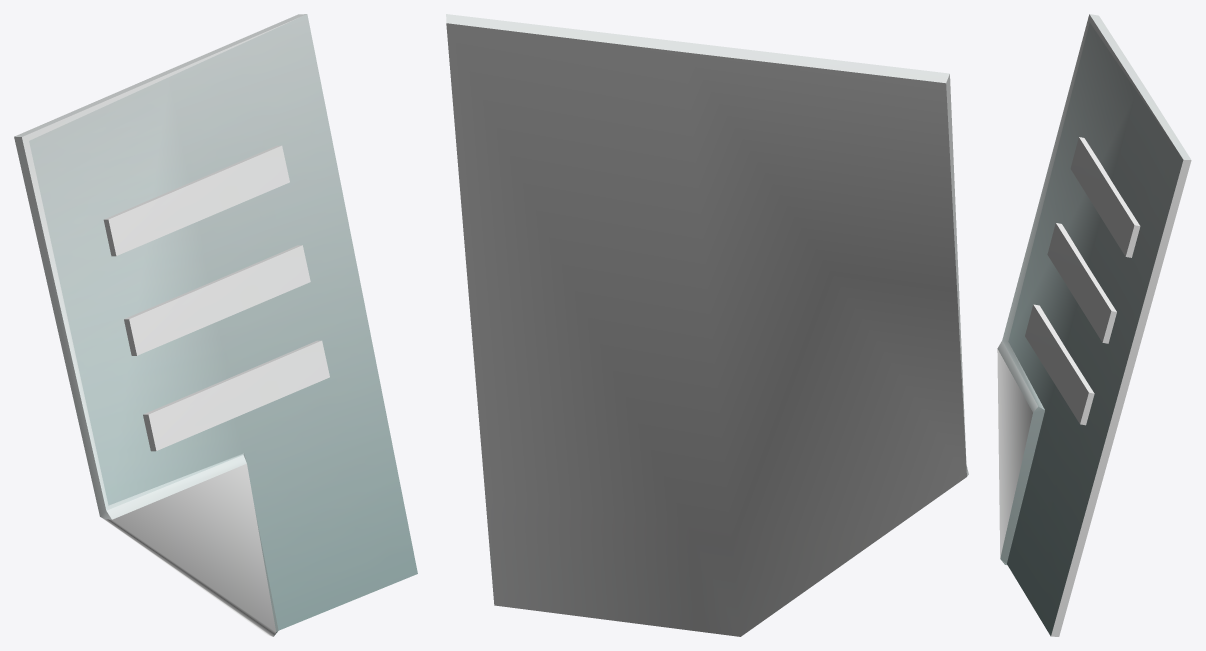
File: Prop_Doc.fbx
The picture shows the model from 3 angles, left to right: view 1: azimuth 30°, elevation 25°; view 2: azimuth 150°, elevation 25°; view 3: azimuth 270°, elevation 25°; orthographic projection. The views are drawn at different scales.
Visible parts, largest first — view 1: Doc; view 2: Doc; view 3: Doc.
Boxes of the visible parts, x1=… form: Doc: x1=14, y1=14, x2=417, y2=636; Doc: x1=446, y1=14, x2=968, y2=636; Doc: x1=997, y1=14, x2=1191, y2=636.
Bounding box in the file's own units: 16.56 × 21.8 × 8.24.
